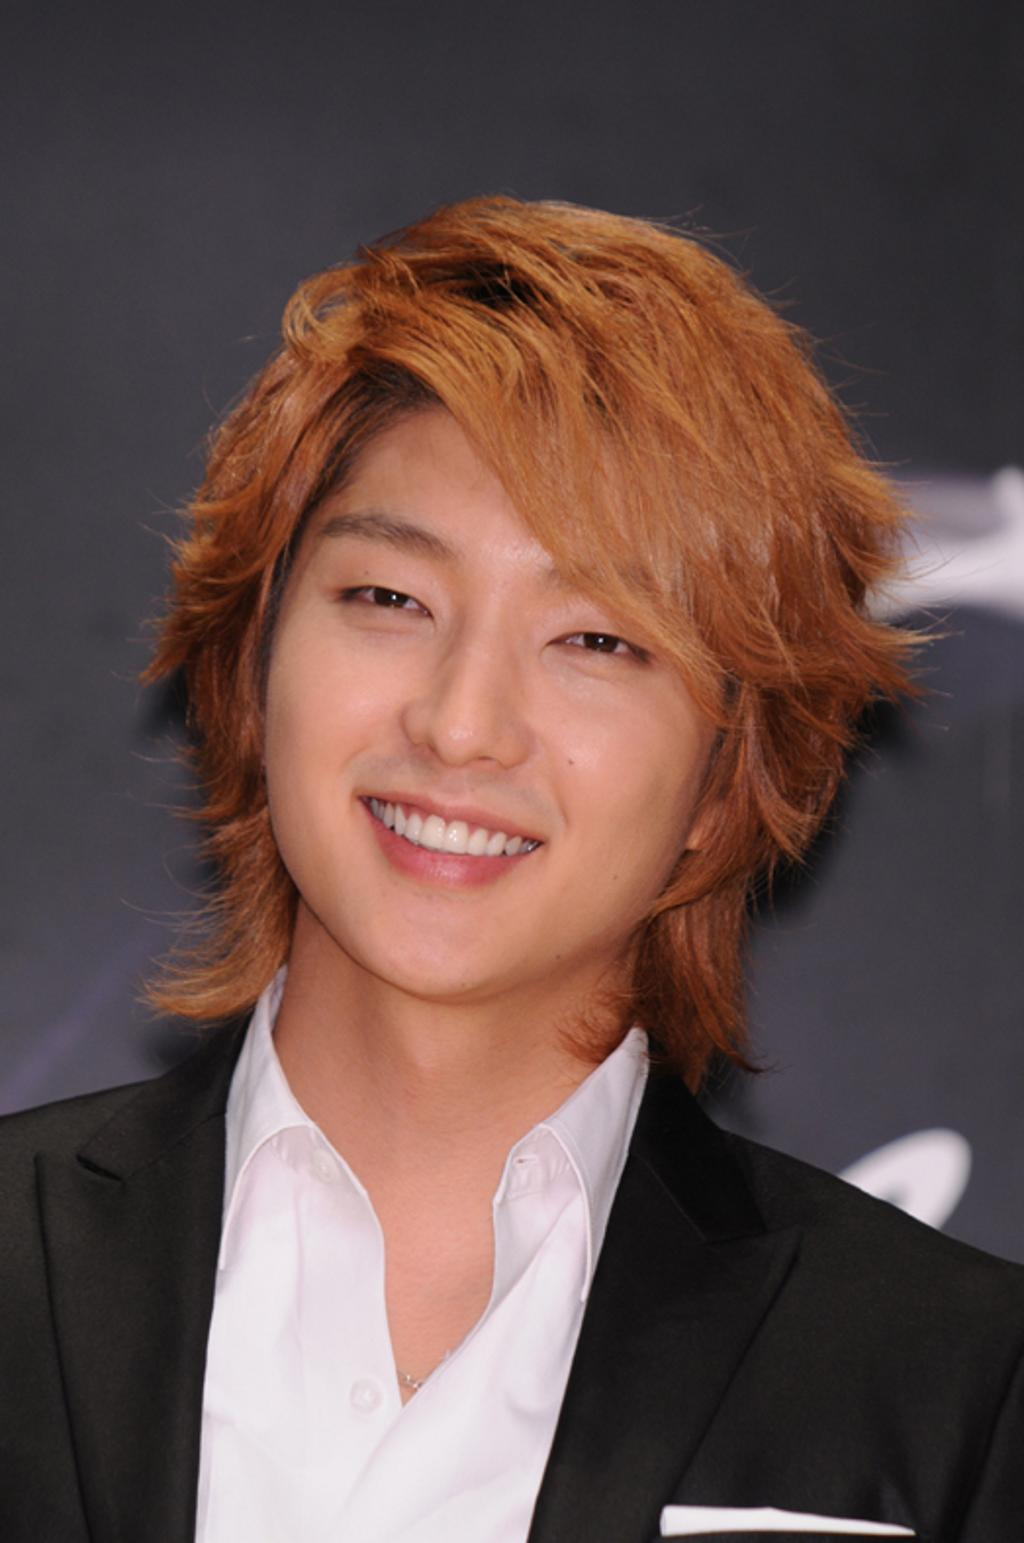face: (269, 362, 718, 991)
